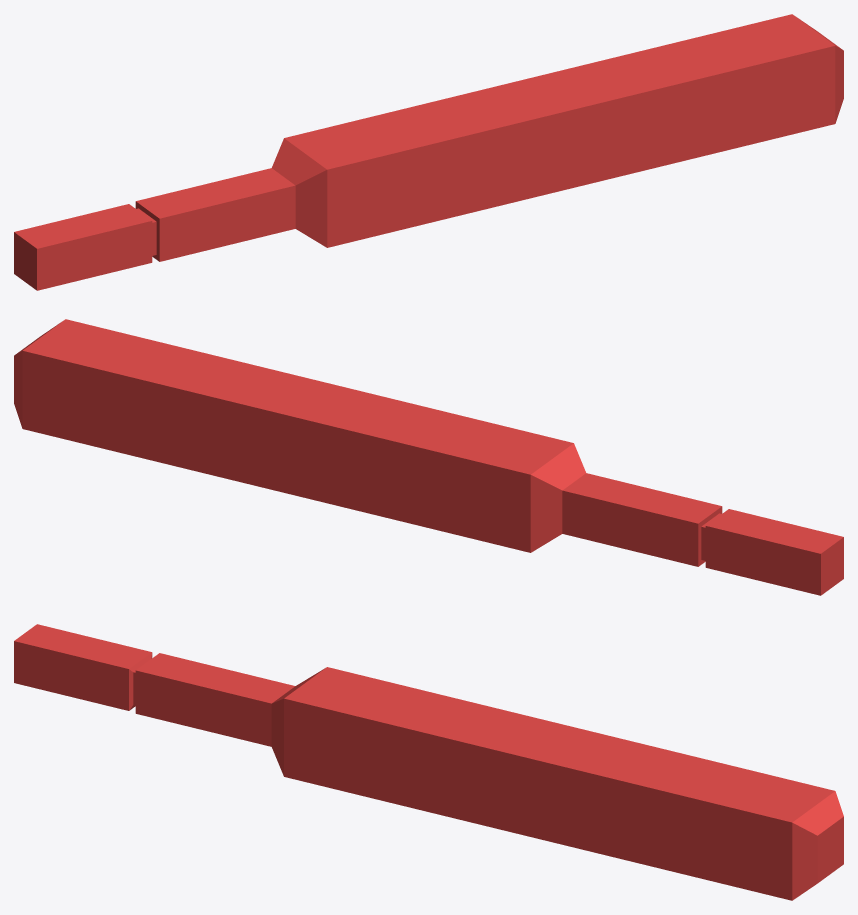
File: toyblasterbolt.fbx
The picture shows the model from 3 angles, top to bottom: view 1: azimuth 30°, elevation 25°; view 2: azimuth 150°, elevation 25°; view 3: azimuth 330°, elevation 25°; orthographic projection.
Parts seen in each view (by area): view 1: Cube; view 2: Cube; view 3: Cube.
Boxes of the visible parts, x1,y1,x2,y2 form: Cube: (14, 14, 843, 290); Cube: (14, 319, 843, 595); Cube: (14, 624, 843, 900).
Bounding box in the file's own units: 327 × 30.37 × 30.37.
